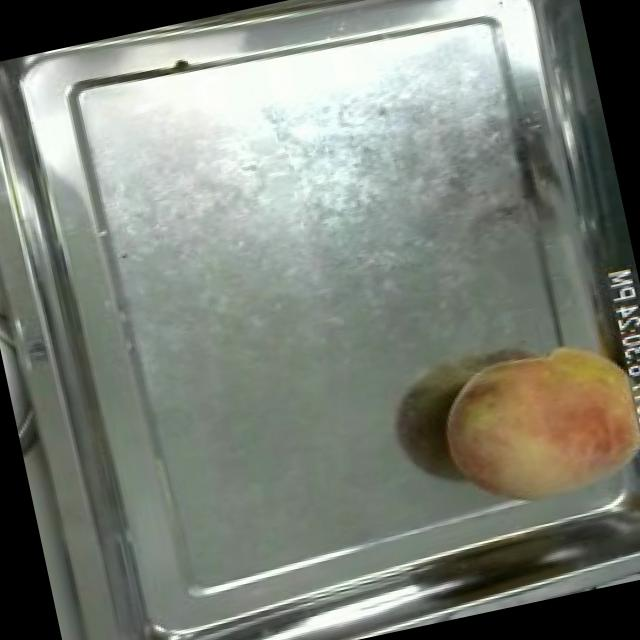Fruit: (420, 320, 640, 534)
